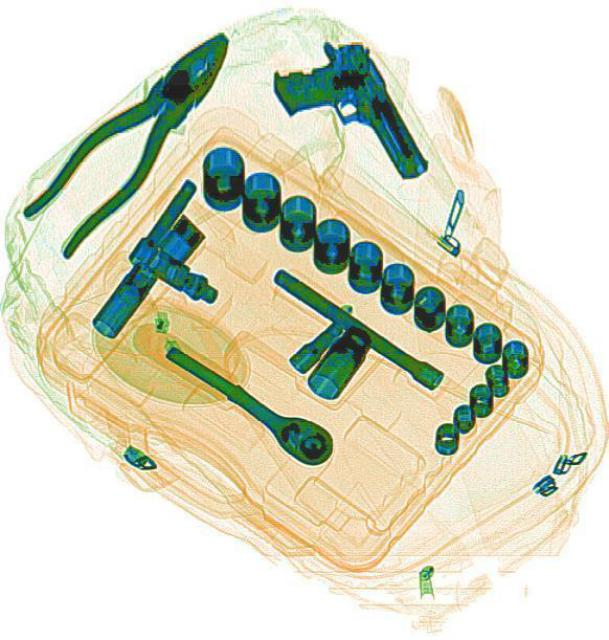Gun: (260, 24, 429, 212)
Pliers: (12, 18, 258, 258)
